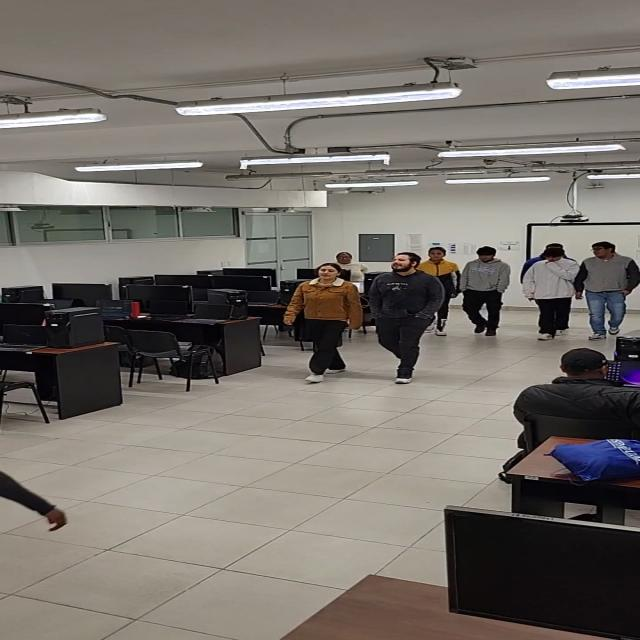Persona: (291, 264, 349, 378), (379, 253, 428, 378), (522, 243, 576, 341), (461, 243, 511, 338), (584, 241, 630, 334), (422, 244, 463, 284), (323, 251, 372, 266)
